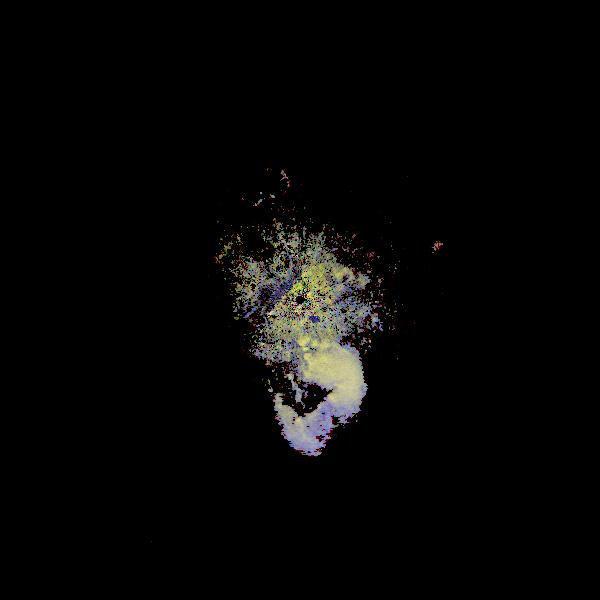roost: (218, 303, 395, 480)
